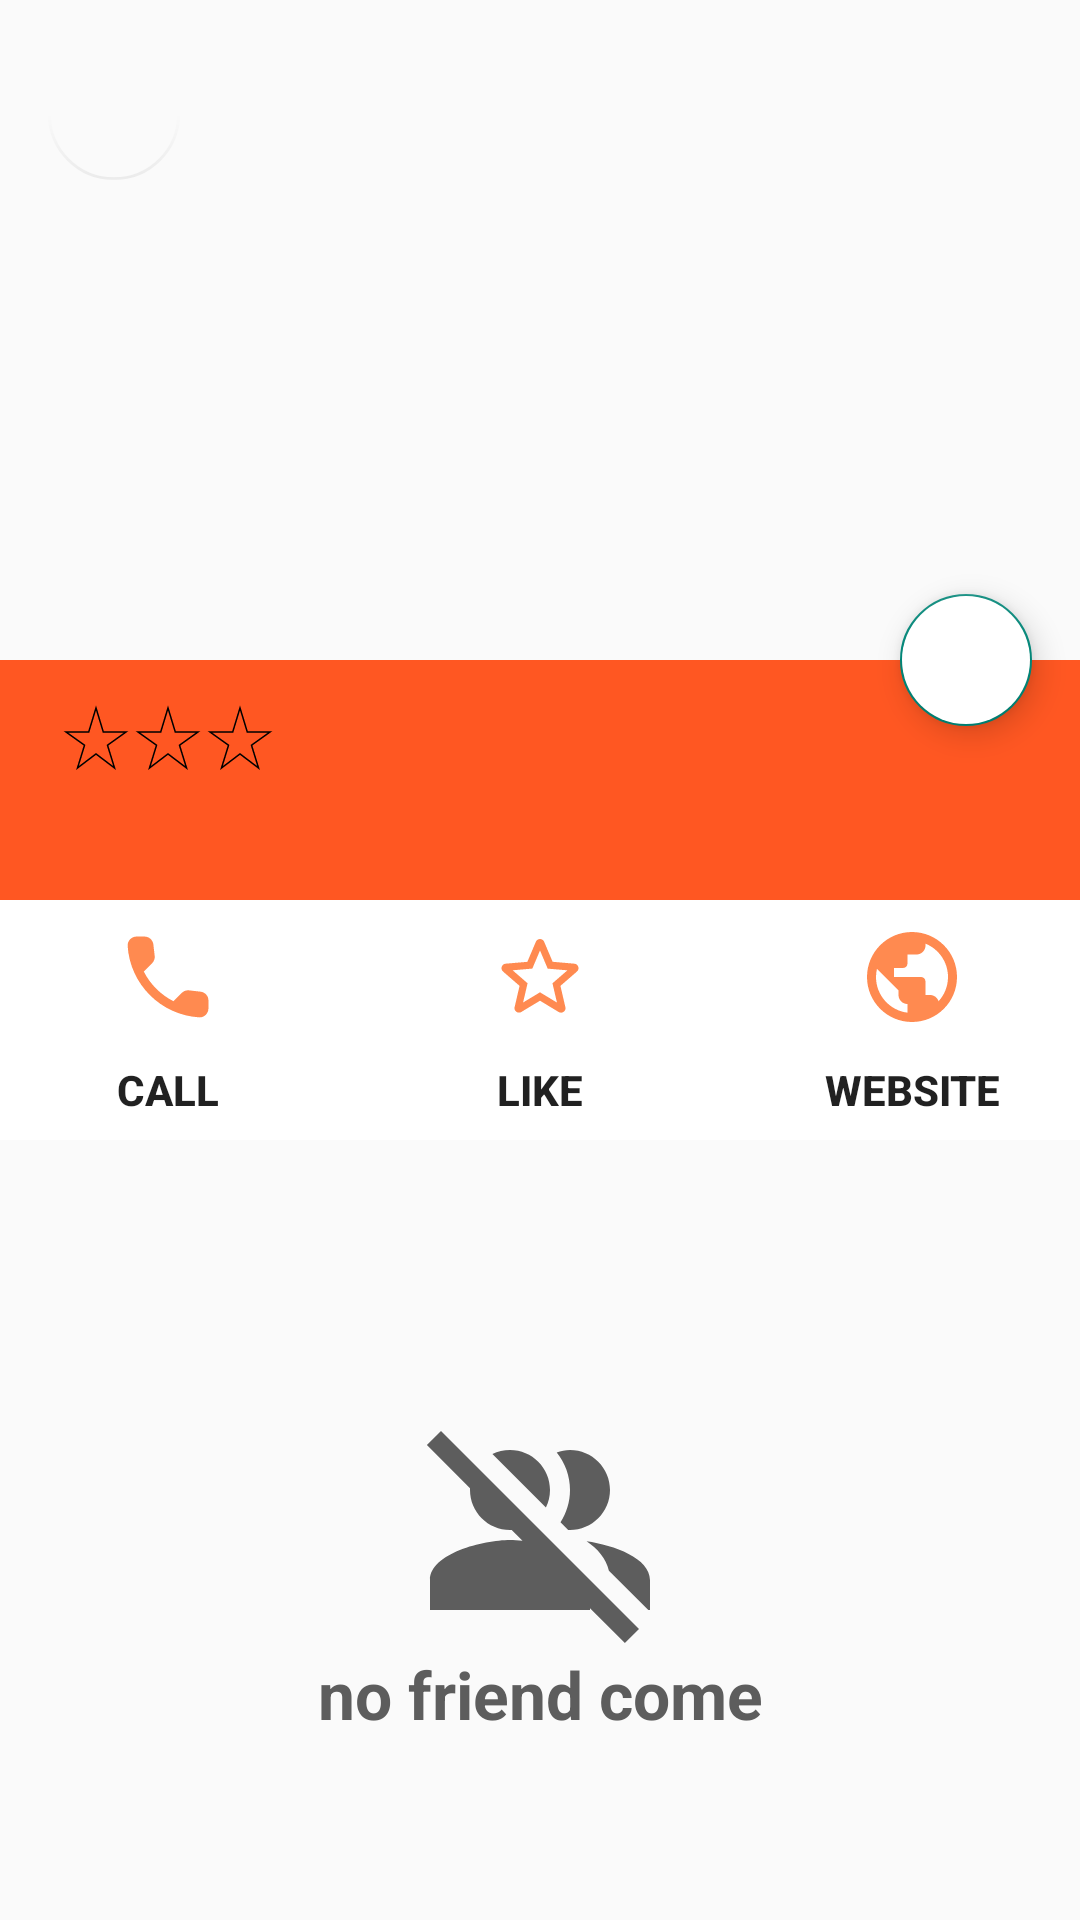

Where icons sit on this 1080*1920 app screen, as [x1=x1, y1=y1, x2=x2, y2=y2]:
group off: [x1=427, y1=1431, x2=650, y2=1643]
